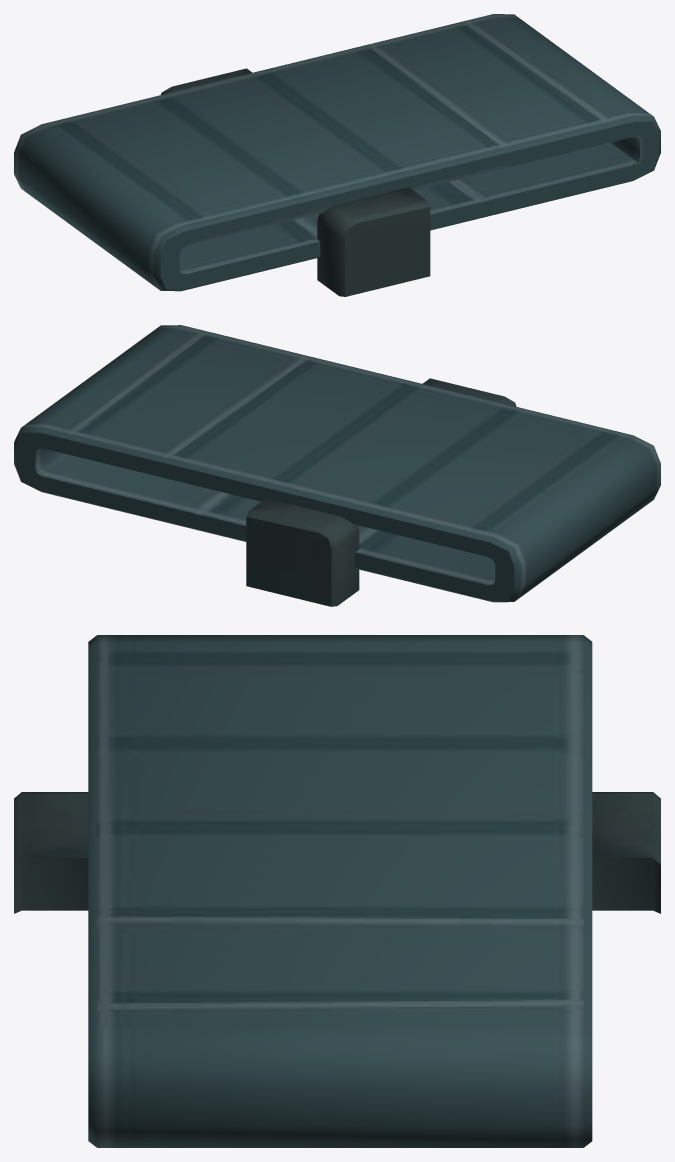
The model's file is CSD2.fbx.
3 views of the same model, one above another, from view 1: azimuth 30°, elevation 25°; view 2: azimuth 150°, elevation 25°; view 3: azimuth 270°, elevation 25° (orthographic). The views are drawn at different scales.
Visible parts, largest first — view 1: JiQi; view 2: JiQi; view 3: JiQi.
Part boxes in pixels (<box>): JiQi: <box>14,14,660,296</box>; JiQi: <box>14,325,660,606</box>; JiQi: <box>14,635,660,1147</box>.
Size of the model in its own units: 524 by 85.94 by 332.
